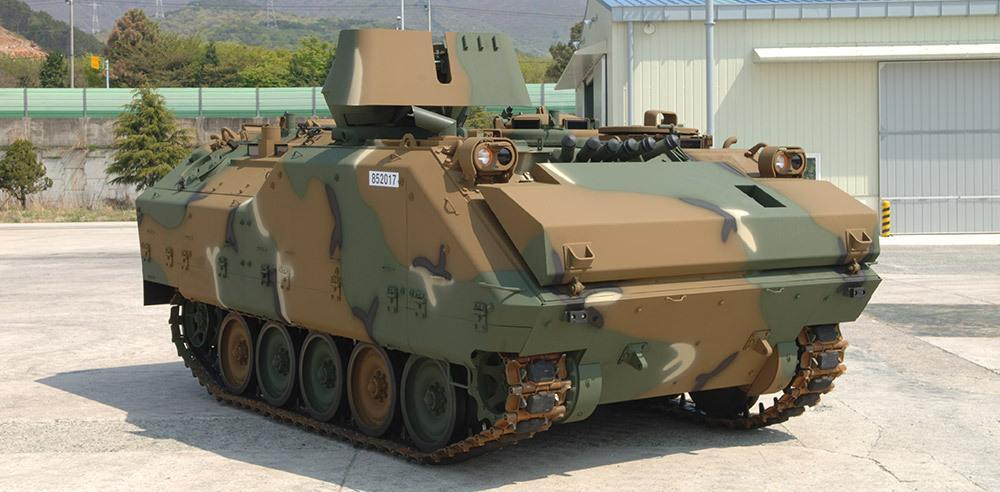MIL_IFV: (131, 26, 881, 468)
